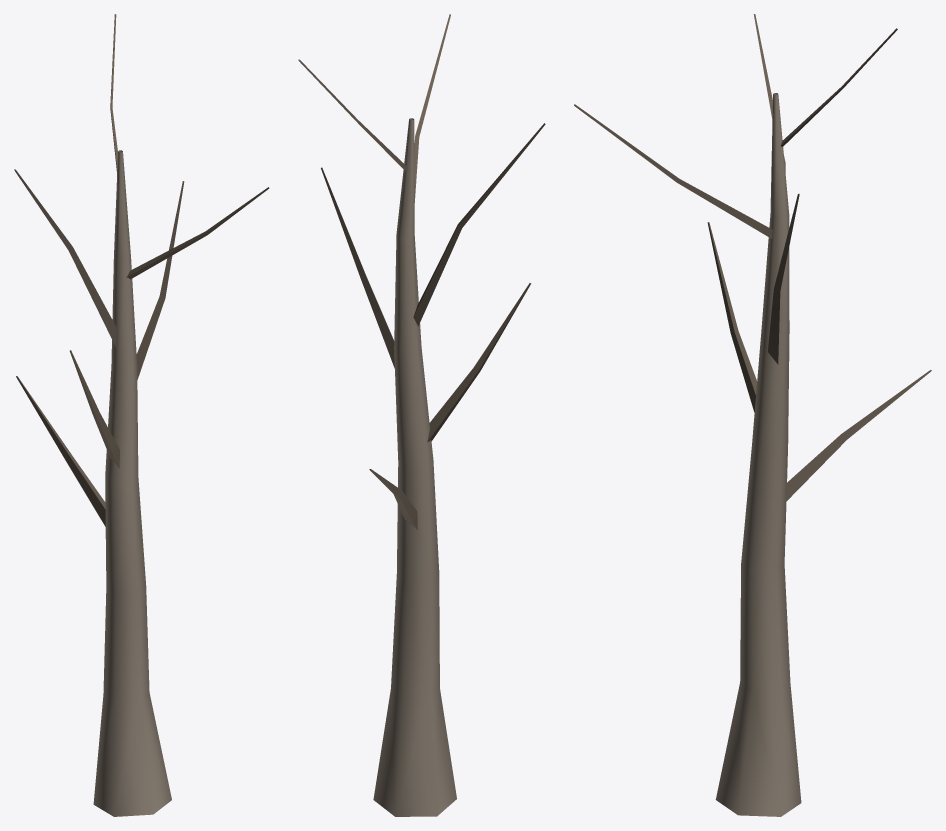
File: tree_dead_a_lod1.glb
3 renders of one model, left to right at view 1: azimuth 30°, elevation 25°; view 2: azimuth 150°, elevation 25°; view 3: azimuth 270°, elevation 25°, orthographic. The views are drawn at different scales.
Parts seen in each view (by area): view 1: tree_dead_a_lod1; view 2: tree_dead_a_lod1; view 3: tree_dead_a_lod1.
Boxes of the visible parts, box(x1,y1,x2,y2) form: tree_dead_a_lod1: box(14, 14, 269, 816); tree_dead_a_lod1: box(298, 14, 545, 816); tree_dead_a_lod1: box(574, 14, 931, 816).
Size of the model in its own units: 2.71 by 9.96 by 4.04.
